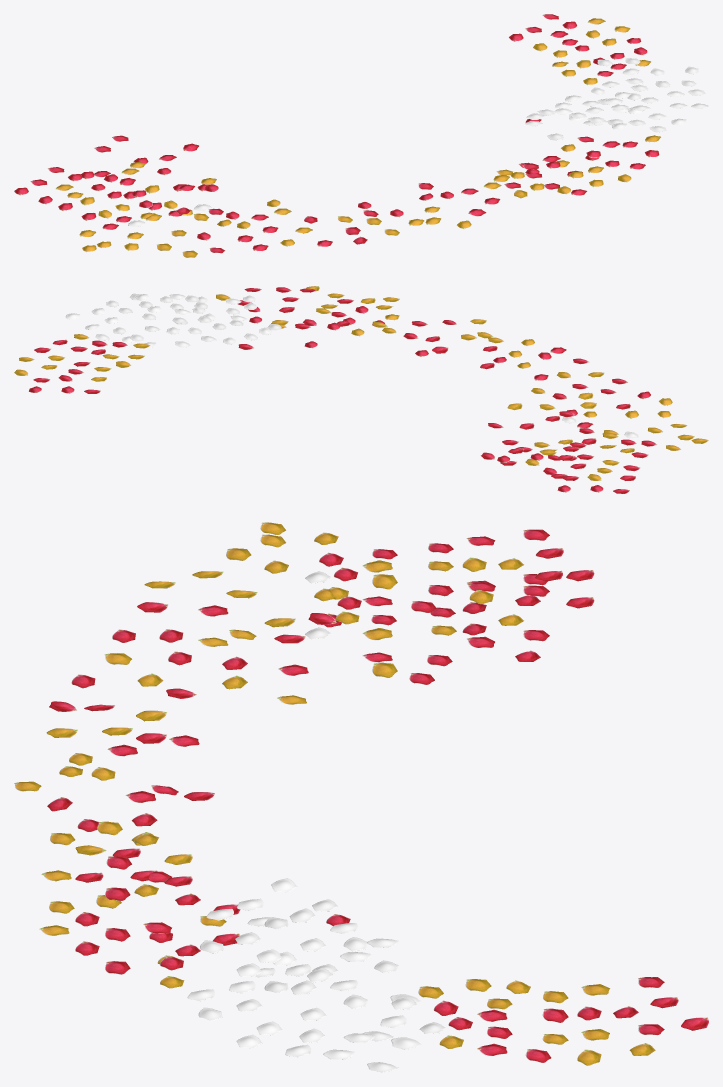
The model's file is rose_flower_petals.glb.
The picture shows the model from 3 angles, top to bottom: view 1: azimuth 30°, elevation 25°; view 2: azimuth 150°, elevation 25°; view 3: azimuth 270°, elevation 25°; orthographic projection. The views are drawn at different scales.
Visible parts, largest first — view 1: Object_23, Object_6, Object_29, Object_9, Object_24, Object_10, Object_27, Object_14, Object_12, Object_25, Object_20, Object_26 (+14 smaller); view 2: Object_25, Object_27, Object_14, Object_18, Object_19, Object_23, Object_24, Object_6, Object_9, Object_10, Object_12, Object_3 (+14 smaller); view 3: Object_15, Object_8, Object_11, Object_26, Object_20, Object_28, Object_10, Object_19, Object_3, Object_18, Object_12, Object_16 (+15 smaller).
Part boxes in pixels (bbox=[...]): Object_23: bbox=[408, 135, 660, 229]; Object_6: bbox=[345, 163, 538, 244]; Object_29: bbox=[493, 60, 603, 194]; Object_9: bbox=[14, 171, 332, 246]; Object_24: bbox=[157, 26, 630, 250]; Object_10: bbox=[197, 53, 624, 251]; Object_27: bbox=[79, 61, 568, 248]; Object_14: bbox=[68, 31, 568, 229]; Object_12: bbox=[81, 45, 589, 220]; Object_25: bbox=[55, 43, 547, 257]; Object_20: bbox=[615, 80, 705, 132]; Object_26: bbox=[67, 168, 155, 251]; Object_25: bbox=[91, 372, 672, 480]; Object_27: bbox=[116, 361, 694, 465]; Object_14: bbox=[58, 375, 656, 480]; Object_18: bbox=[147, 295, 576, 423]; Object_19: bbox=[104, 294, 638, 438]; Object_23: bbox=[216, 294, 503, 343]; Object_24: bbox=[19, 339, 671, 418]; Object_6: bbox=[327, 320, 566, 363]; Object_9: bbox=[543, 358, 640, 493]; Object_10: bbox=[70, 346, 630, 409]; Object_12: bbox=[73, 362, 648, 478]; Object_3: bbox=[85, 295, 257, 342]; Object_15: bbox=[106, 856, 708, 1062]; Object_8: bbox=[75, 922, 507, 1055]; Object_11: bbox=[107, 602, 664, 987]; Object_26: bbox=[226, 522, 523, 625]; Object_20: bbox=[187, 989, 368, 1059]; Object_28: bbox=[164, 588, 568, 1003]; Object_10: bbox=[112, 605, 512, 1038]; Object_19: bbox=[200, 571, 375, 1042]; Object_3: bbox=[236, 899, 421, 1049]; Object_18: bbox=[206, 627, 398, 991]; Object_12: bbox=[362, 549, 568, 1022]; Object_16: bbox=[75, 548, 563, 1021].
Bounding box in the file's own units: 152 × 11.78 × 80.93.
Materials: 2 (2 with a texture image).
